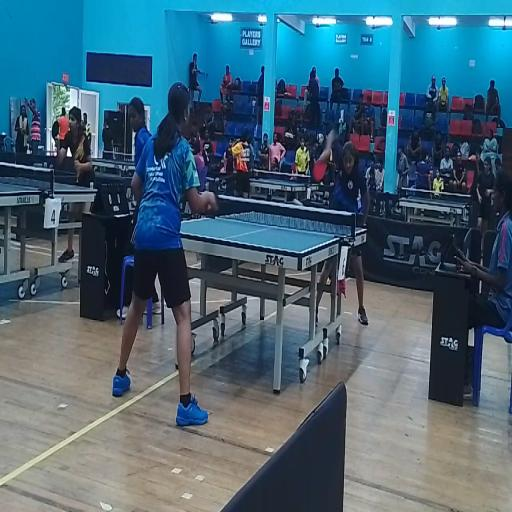ball: (293, 199, 304, 208)
